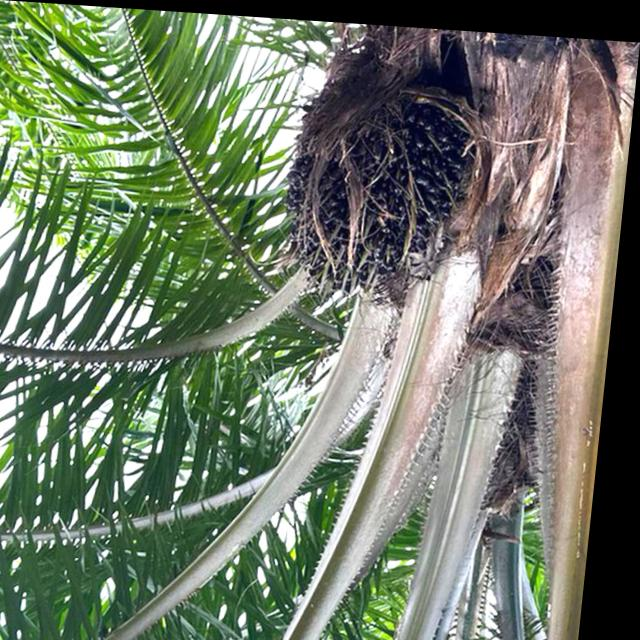unripe: (278, 62, 492, 306)
